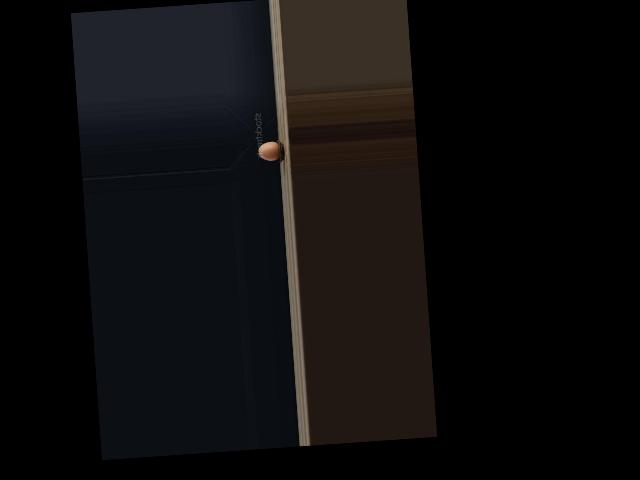egg: (258, 141, 280, 162)
